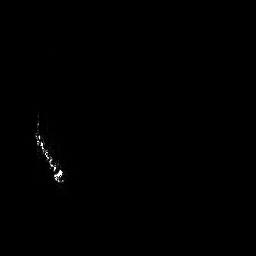ship: (34, 115, 64, 182)
